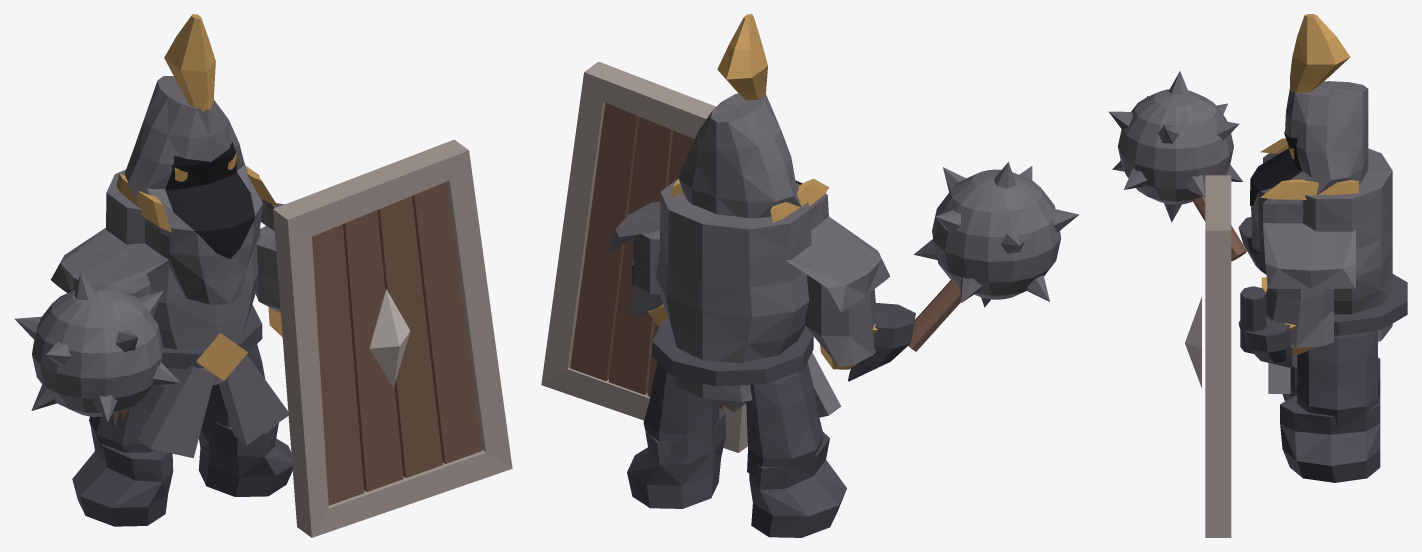
File: guardian-model.glb
3 views of the same model, side by side, from view 1: azimuth 30°, elevation 25°; view 2: azimuth 150°, elevation 25°; view 3: azimuth 270°, elevation 25° (orthographic). The views are drawn at different scales.
Visible parts, largest first — view 1: ShieldFrame, Helmet, MaceHead, ShieldPlank.4, ShieldPlank.3, ShieldPlank.1, ShieldPlank.2, Breastplate, Boot.L, Boot.R, Pauldron.L, Tabard.L (+11 smaller); view 2: Breastplate, ShieldFrame, MaceHead, Helmet, ShieldPlank.4, ShieldPlank.3, LegArmor.L, Boot.L, Pauldron.L, Boot.R, Belt, LegArmor.R (+9 smaller); view 3: ShieldFrame, MaceHead, Helmet, Breastplate, Pauldron.R, Boot.R, LegArmor.R, Forearm.R, GoldenCrest, Belt, Gauntlet.R, ShieldGrip (+7 smaller).
Part boxes in pixels (x1=…): ShieldFrame: x1=273, y1=139, x2=512, y2=537; Helmet: x1=125, y1=76, x2=262, y2=304; MaceHead: x1=32, y1=284, x2=163, y2=416; ShieldPlank.4: x1=412, y1=182, x2=481, y2=463; ShieldPlank.3: x1=377, y1=196, x2=442, y2=477; ShieldPlank.1: x1=312, y1=224, x2=364, y2=505; ShieldPlank.2: x1=343, y1=210, x2=403, y2=491; Breastplate: x1=106, y1=169, x2=260, y2=386; Boot.L: x1=72, y1=429, x2=173, y2=526; Boot.R: x1=198, y1=420, x2=292, y2=496; Pauldron.L: x1=51, y1=219, x2=169, y2=292; Tabard.L: x1=137, y1=365, x2=215, y2=458; Breastplate: x1=656, y1=179, x2=811, y2=401; ShieldFrame: x1=541, y1=61, x2=747, y2=452; MaceHead: x1=932, y1=169, x2=1060, y2=299; Helmet: x1=678, y1=93, x2=801, y2=218; ShieldPlank.4: x1=570, y1=102, x2=639, y2=381; ShieldPlank.3: x1=609, y1=116, x2=673, y2=394; LegArmor.L: x1=746, y1=362, x2=823, y2=477; Boot.L: x1=749, y1=432, x2=846, y2=537; Pauldron.L: x1=786, y1=193, x2=890, y2=312; Boot.R: x1=627, y1=407, x2=726, y2=508; Belt: x1=652, y1=319, x2=813, y2=386; LegArmor.R: x1=643, y1=362, x2=719, y2=457; ShieldFrame: x1=1205, y1=175, x2=1231, y2=537; MaceHead: x1=1117, y1=89, x2=1233, y2=204; Helmet: x1=1251, y1=81, x2=1368, y2=253; Breastplate: x1=1302, y1=148, x2=1392, y2=341; Pauldron.R: x1=1263, y1=198, x2=1355, y2=288; Boot.R: x1=1280, y1=395, x2=1380, y2=482; LegArmor.R: x1=1297, y1=330, x2=1377, y2=427; Forearm.R: x1=1266, y1=287, x2=1333, y2=347; GoldenCrest: x1=1290, y1=14, x2=1350, y2=92; Belt: x1=1334, y1=274, x2=1407, y2=335; Gauntlet.R: x1=1238, y1=317, x2=1292, y2=367; ShieldGrip: x1=1240, y1=286, x2=1266, y2=353.
Bounding box in the file's own units: 1.36 × 1.28 × 0.8065.
